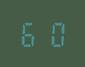six: (19, 20, 41, 47)
zero: (42, 20, 64, 47)
